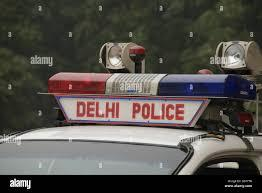Emergency-Vehicles: (2, 25, 262, 193)
